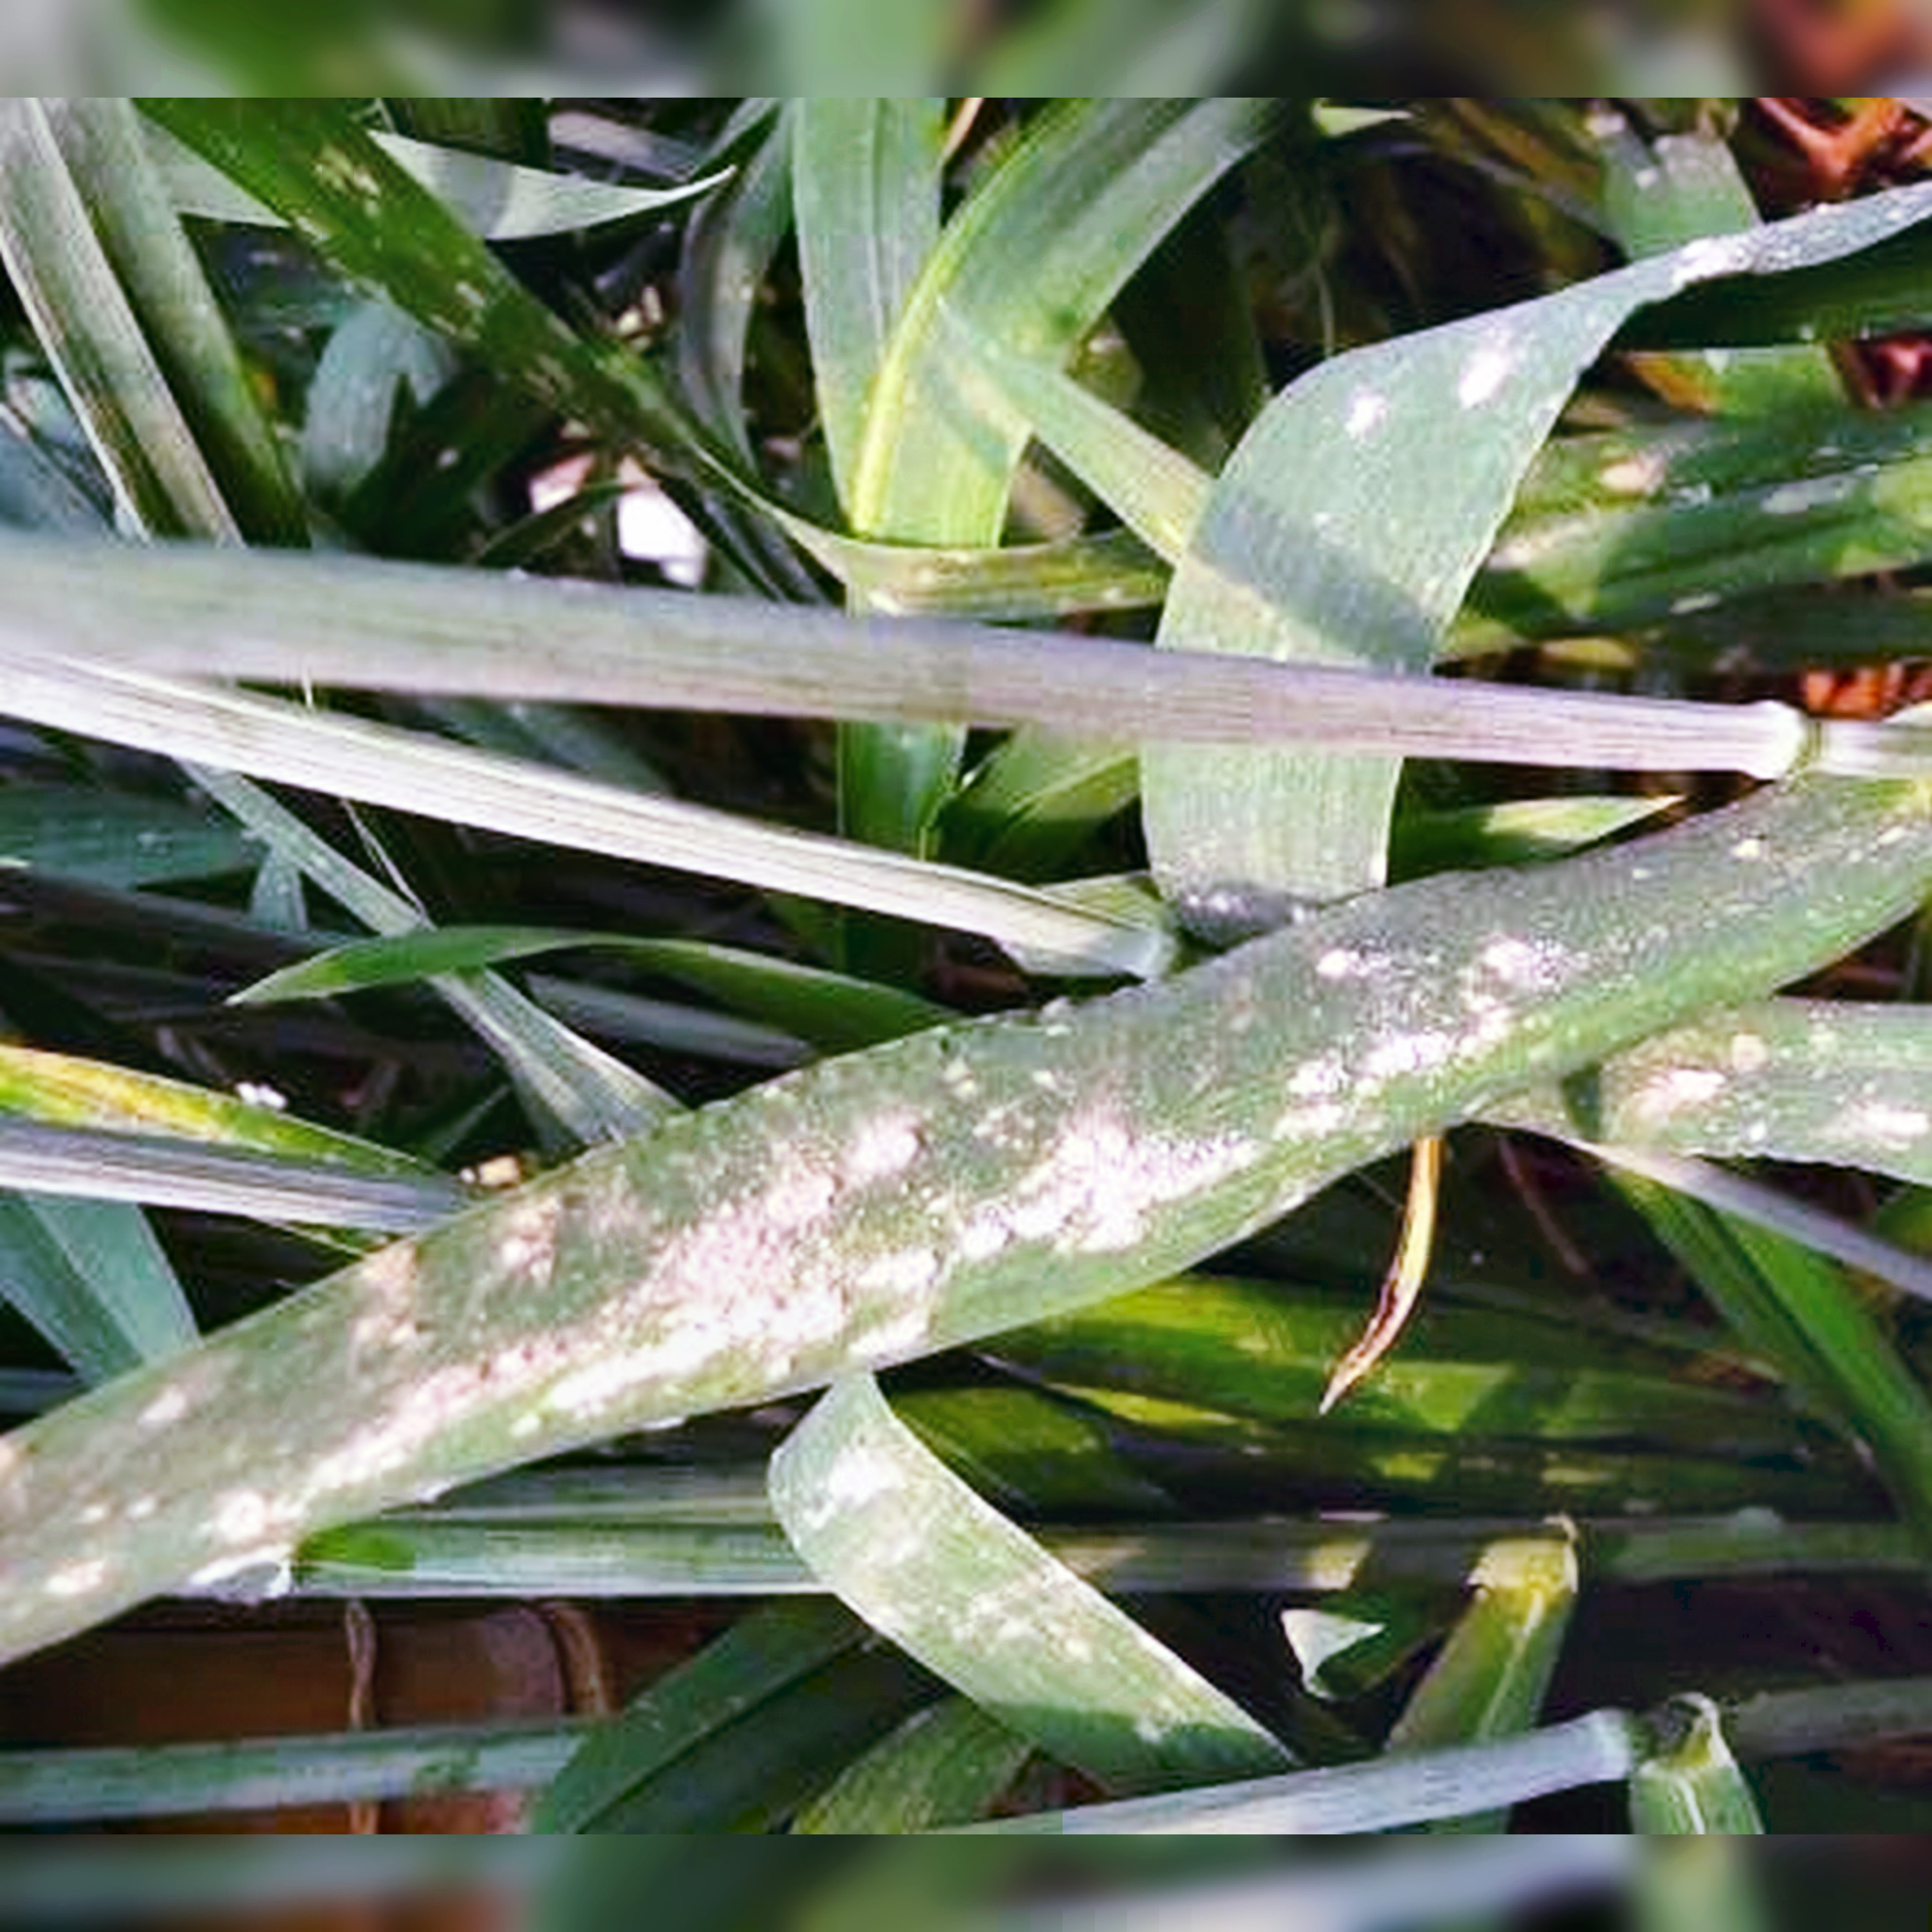Powdery Mildew: (311, 853, 1606, 1490)
